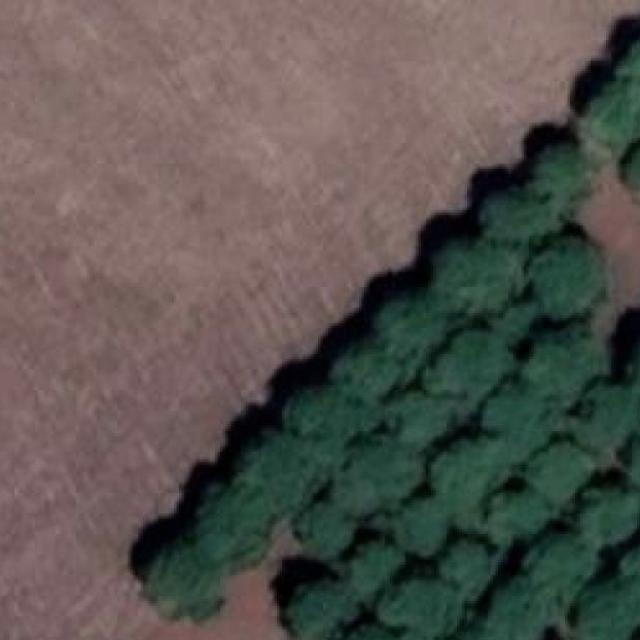Tree: (236, 421, 321, 505), (191, 483, 272, 569), (137, 534, 221, 616), (280, 374, 369, 448), (434, 325, 509, 398), (524, 328, 599, 399), (388, 573, 465, 640), (428, 434, 501, 504), (539, 239, 606, 315), (482, 380, 552, 452), (438, 238, 512, 306), (379, 287, 448, 357), (348, 431, 412, 505), (532, 136, 597, 203), (285, 575, 355, 637), (575, 379, 639, 446), (573, 577, 640, 640), (336, 532, 400, 597), (488, 478, 552, 542), (480, 193, 546, 255), (524, 529, 586, 595), (570, 478, 636, 540), (390, 488, 450, 556), (334, 342, 399, 404), (531, 442, 595, 504), (580, 84, 640, 150), (488, 575, 547, 640), (395, 384, 451, 450), (436, 529, 490, 588), (297, 501, 353, 553), (439, 606, 512, 640), (498, 300, 542, 349), (621, 338, 640, 419), (334, 616, 396, 640), (623, 431, 640, 516), (624, 32, 640, 113), (624, 539, 640, 619), (628, 127, 640, 204)
